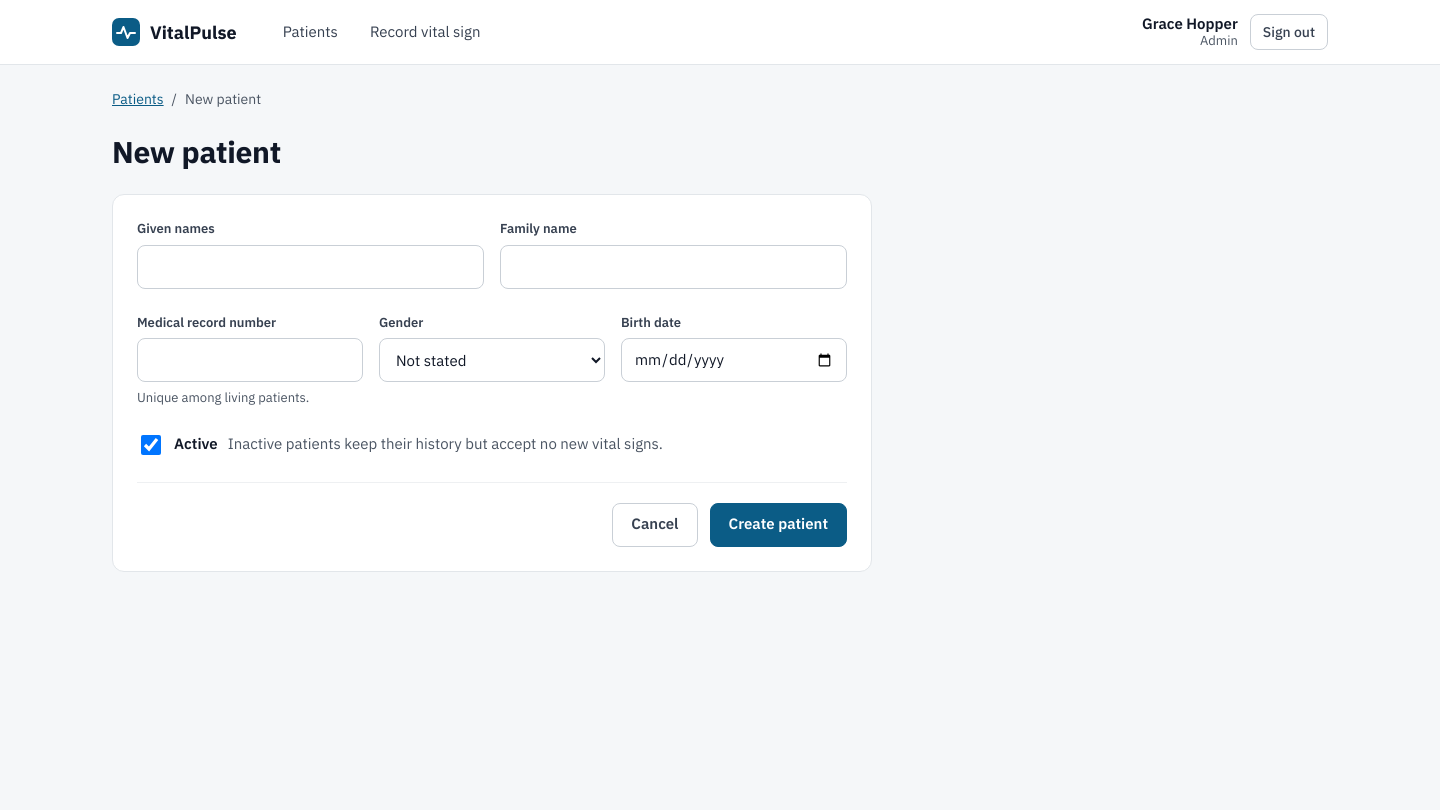
Test case: Patient form page › shows a duplicate identifier next to the MRN field
The width and height of the screenshot is (1440, 810).
Type "Hopper" into the field labelled "Family name" at x=674, y=266, box left=500, top=244, right=847, bottom=288
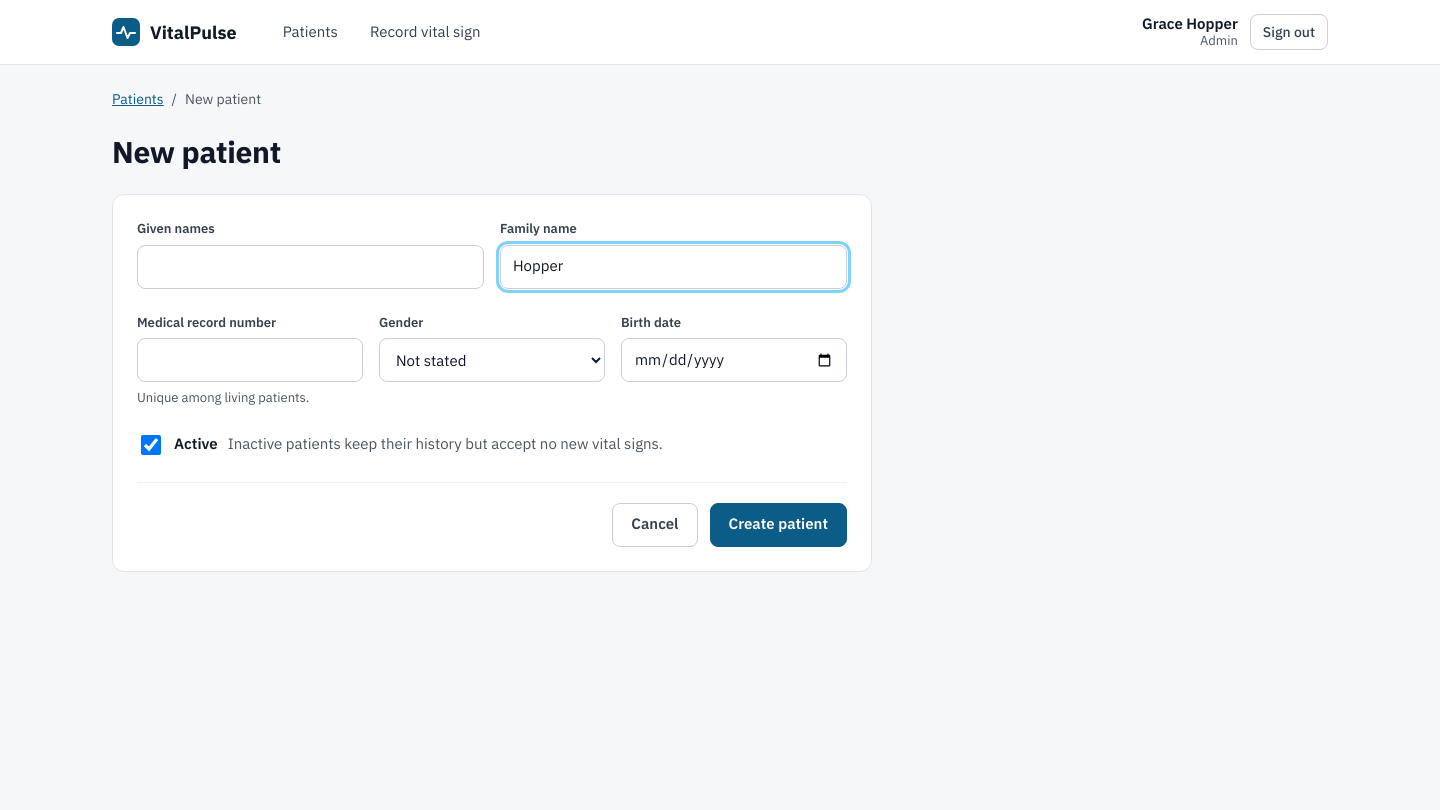
Type "MRN-0042" into the field labelled "Medical record number Unique among living patients." at x=250, y=360, box left=137, top=338, right=363, bottom=382
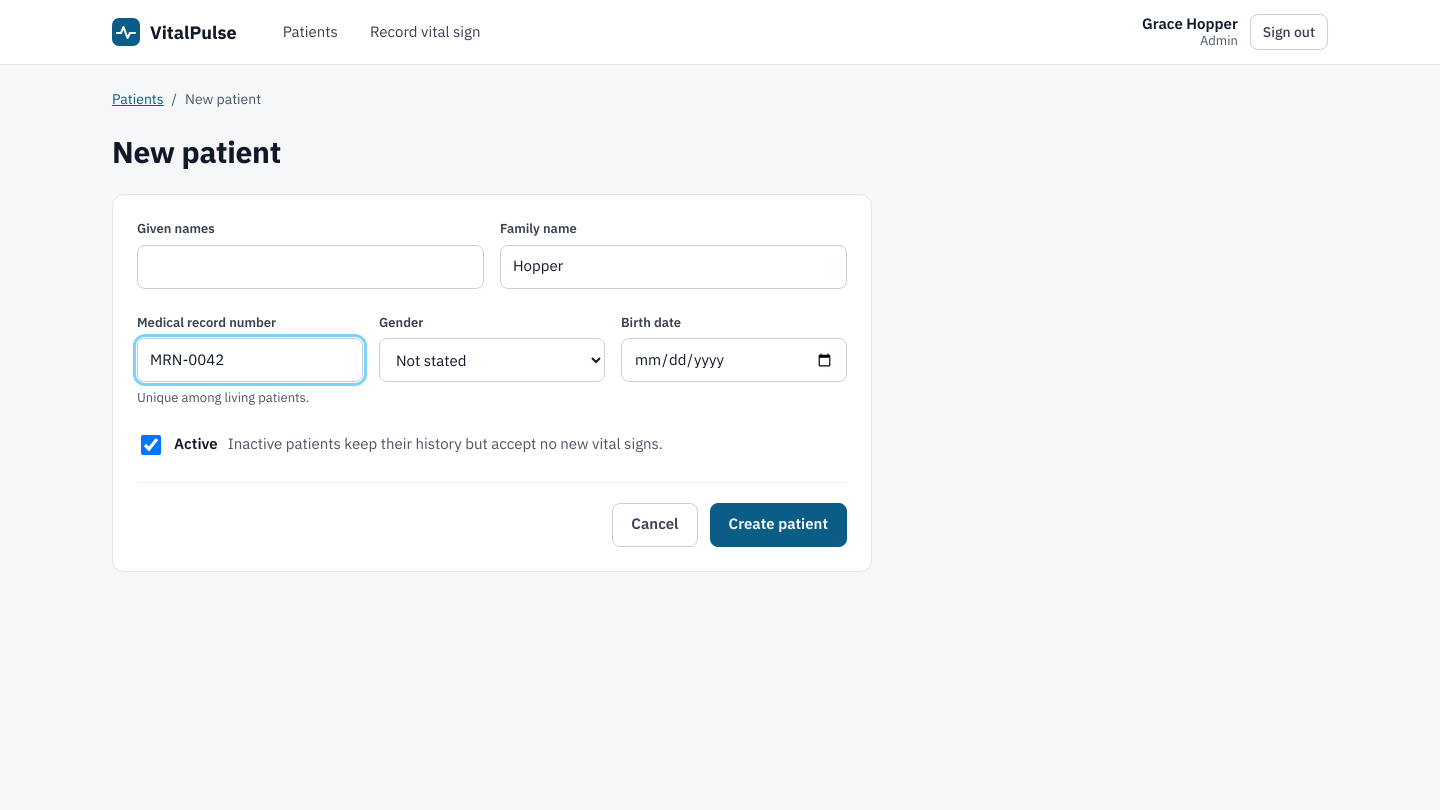
Click the button "Create patient" at x=778, y=524, box left=710, top=502, right=847, bottom=546
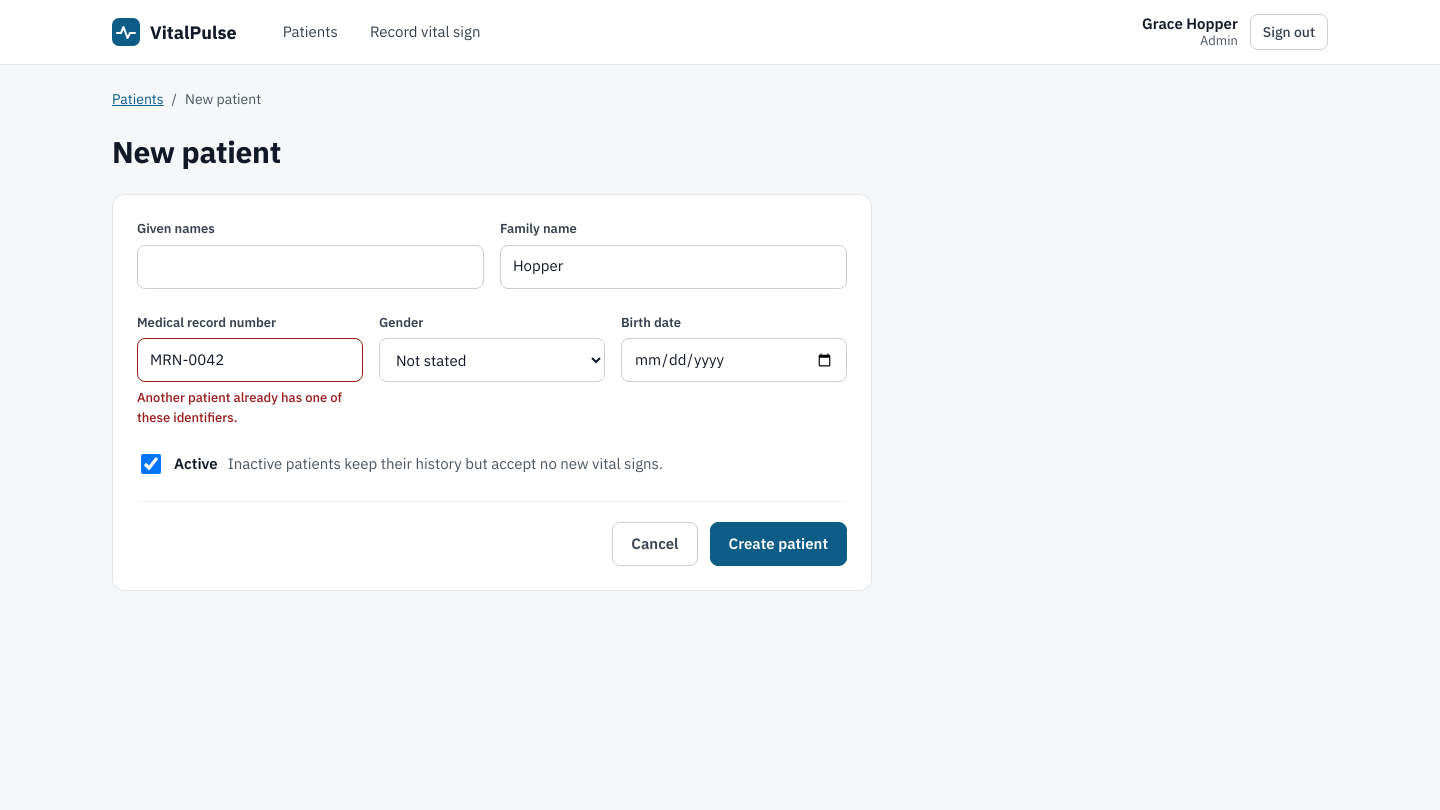
Check: the text "Another patient already has one of these identifiers." is shown, box left=137, top=388, right=363, bottom=427
